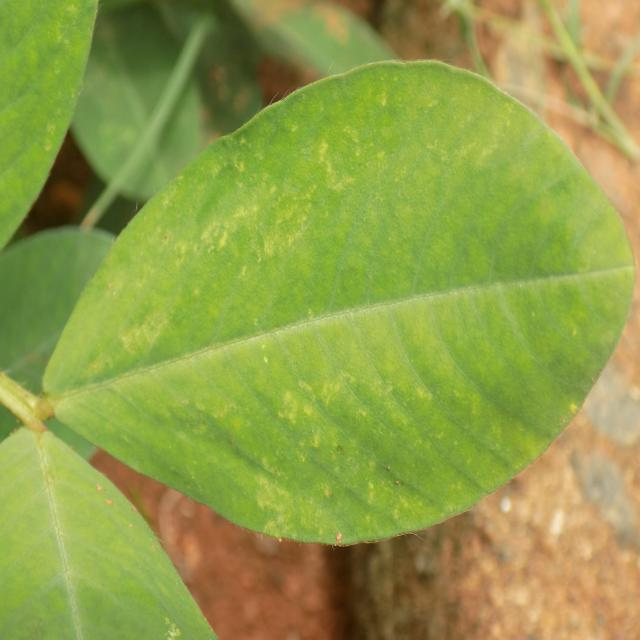Ground nut_healthy: (45, 50, 625, 549)
